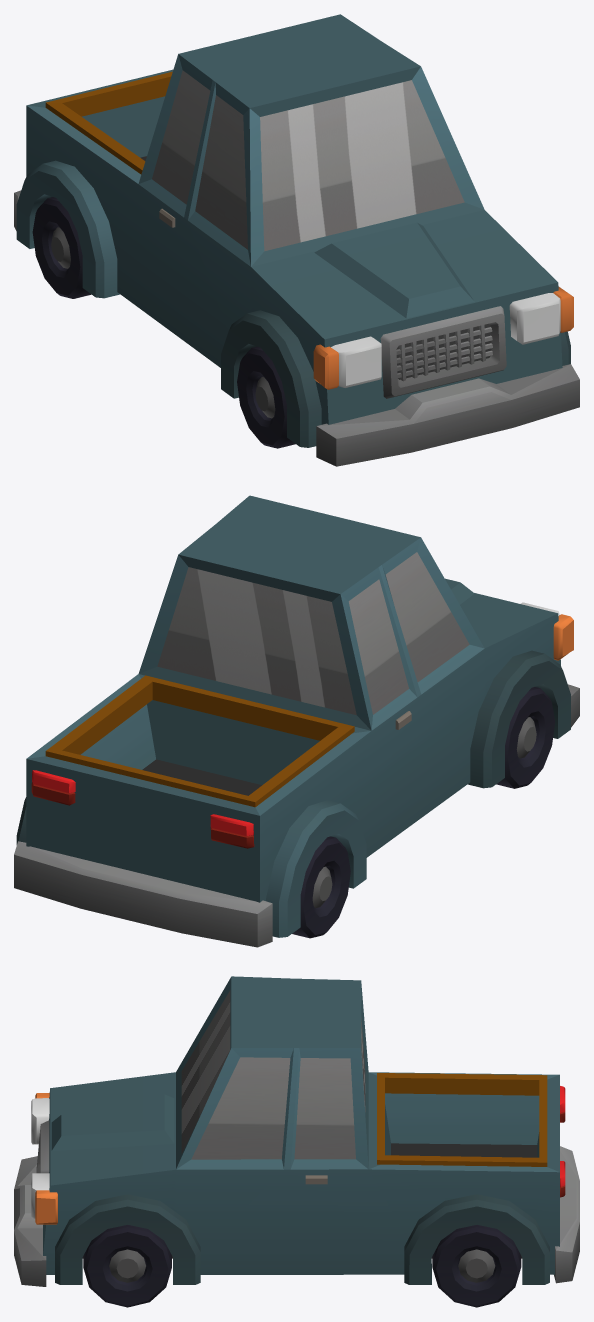
Rendered from PickUp_4.glb.
The picture shows the model from 3 angles, top to bottom: view 1: azimuth 30°, elevation 25°; view 2: azimuth 150°, elevation 25°; view 3: azimuth 270°, elevation 25°; orthographic projection. The views are drawn at different scales.
Parts seen in each view (by area): view 1: PickUp_4, BWhel_BR, BWhel_FR; view 2: PickUp_4, BWhel_BR, BWhel_FR; view 3: PickUp_4, BWhel_BL, BWhel_FL.
Part boxes in pixels (x1,y1,x2,y2): PickUp_4: (14, 14, 579, 466); BWhel_BR: (32, 197, 91, 298); BWhel_FR: (237, 346, 295, 448); PickUp_4: (14, 495, 579, 947); BWhel_BR: (292, 836, 350, 938); BWhel_FR: (496, 687, 554, 788); PickUp_4: (14, 976, 579, 1286); BWhel_BL: (432, 1225, 521, 1307); BWhel_FL: (83, 1225, 171, 1307).
Bounding box in the file's own units: 1.09 × 1.08 × 2.3.
Materials: 6 (6 with a texture image).
